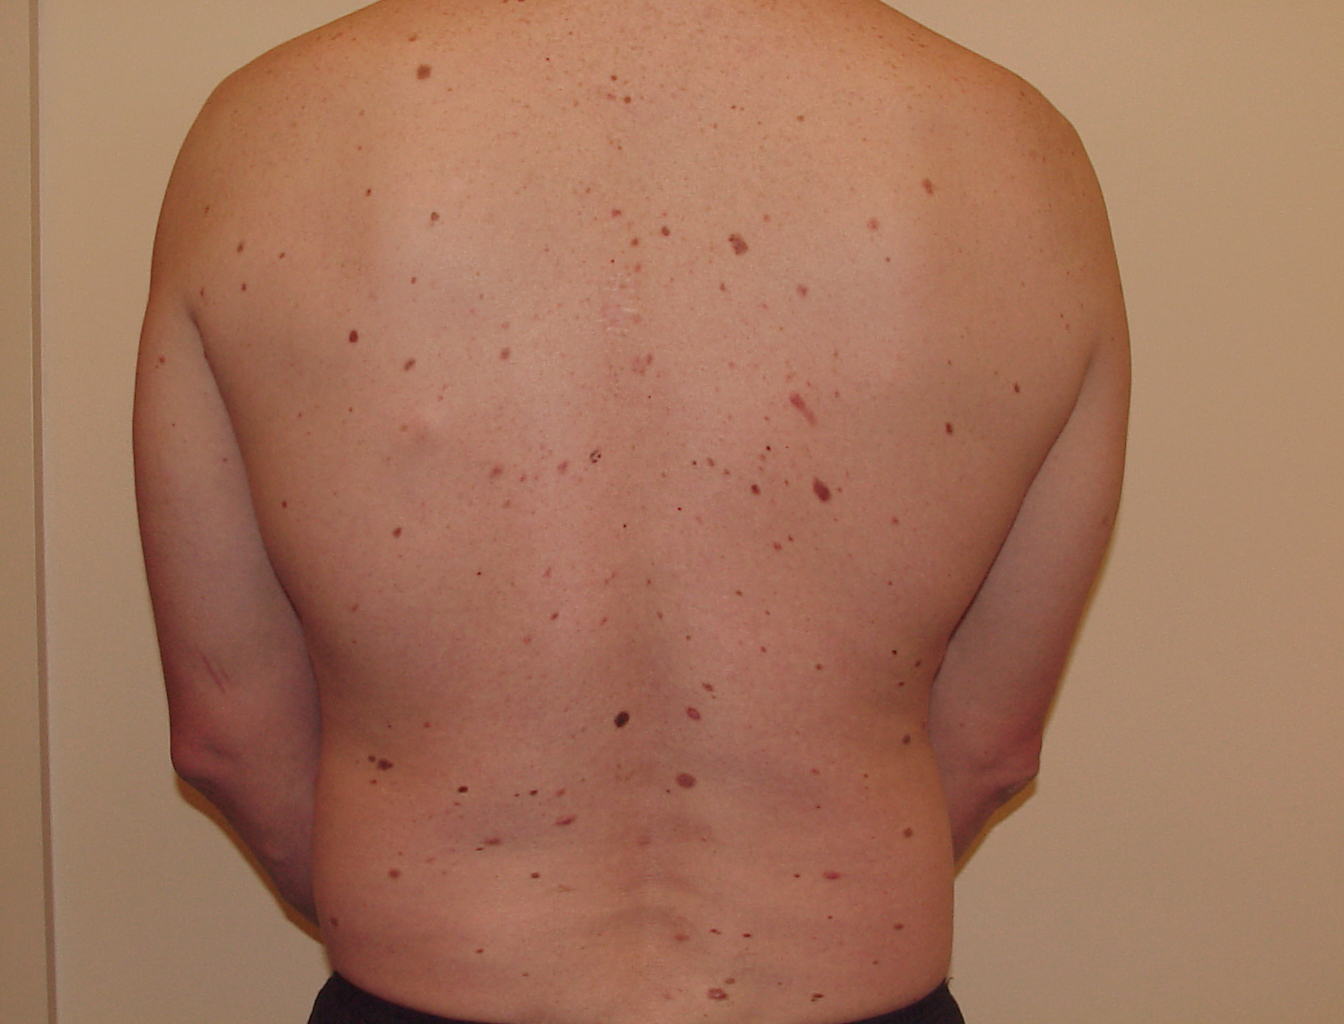mole: (774, 380, 829, 435), (717, 222, 764, 267), (668, 764, 716, 803), (802, 468, 845, 508), (939, 408, 975, 446), (911, 165, 947, 201), (408, 58, 444, 93), (702, 981, 737, 1016), (602, 702, 639, 736), (489, 337, 521, 371), (551, 810, 587, 840), (385, 512, 413, 550), (677, 695, 710, 727), (696, 670, 729, 700), (891, 722, 923, 753), (581, 443, 613, 473), (423, 200, 452, 233), (818, 864, 849, 894), (343, 321, 371, 351), (395, 350, 423, 379), (1006, 376, 1032, 408), (892, 817, 921, 844), (524, 863, 553, 887), (888, 914, 912, 943), (481, 825, 507, 850), (378, 862, 405, 885), (321, 907, 344, 935), (451, 776, 476, 798), (374, 752, 397, 774)
